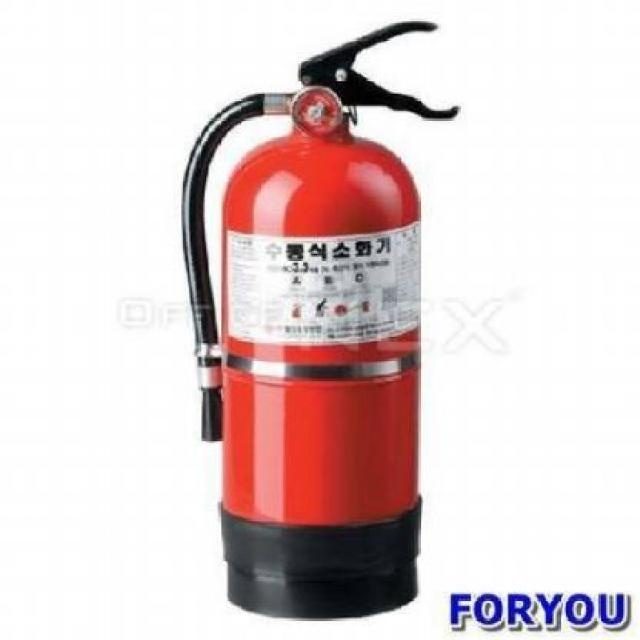fire extinguisher: (181, 20, 461, 620)
